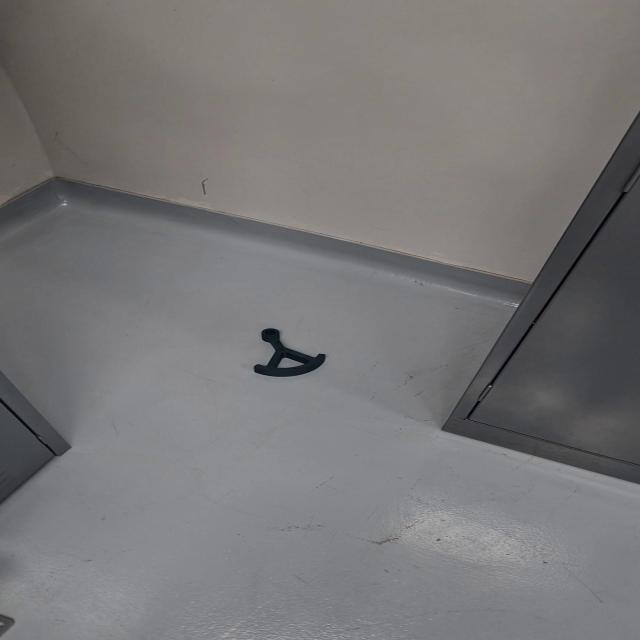haptic: (252, 328, 326, 377)
